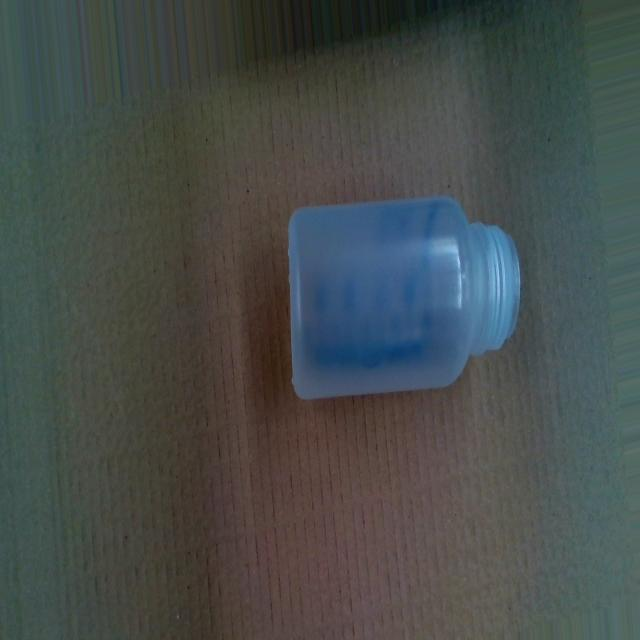bottle: (289, 196, 520, 400)
